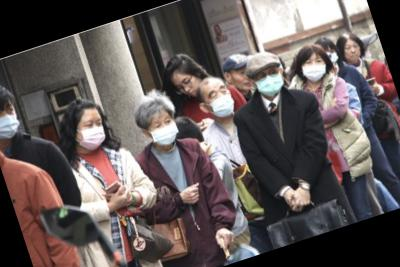with_mask: (73, 114, 112, 155), (145, 111, 183, 151), (204, 81, 239, 122), (252, 66, 288, 100), (298, 53, 331, 86), (324, 45, 342, 68)
without_mask: (171, 72, 204, 103), (338, 37, 366, 67), (231, 64, 255, 96)
